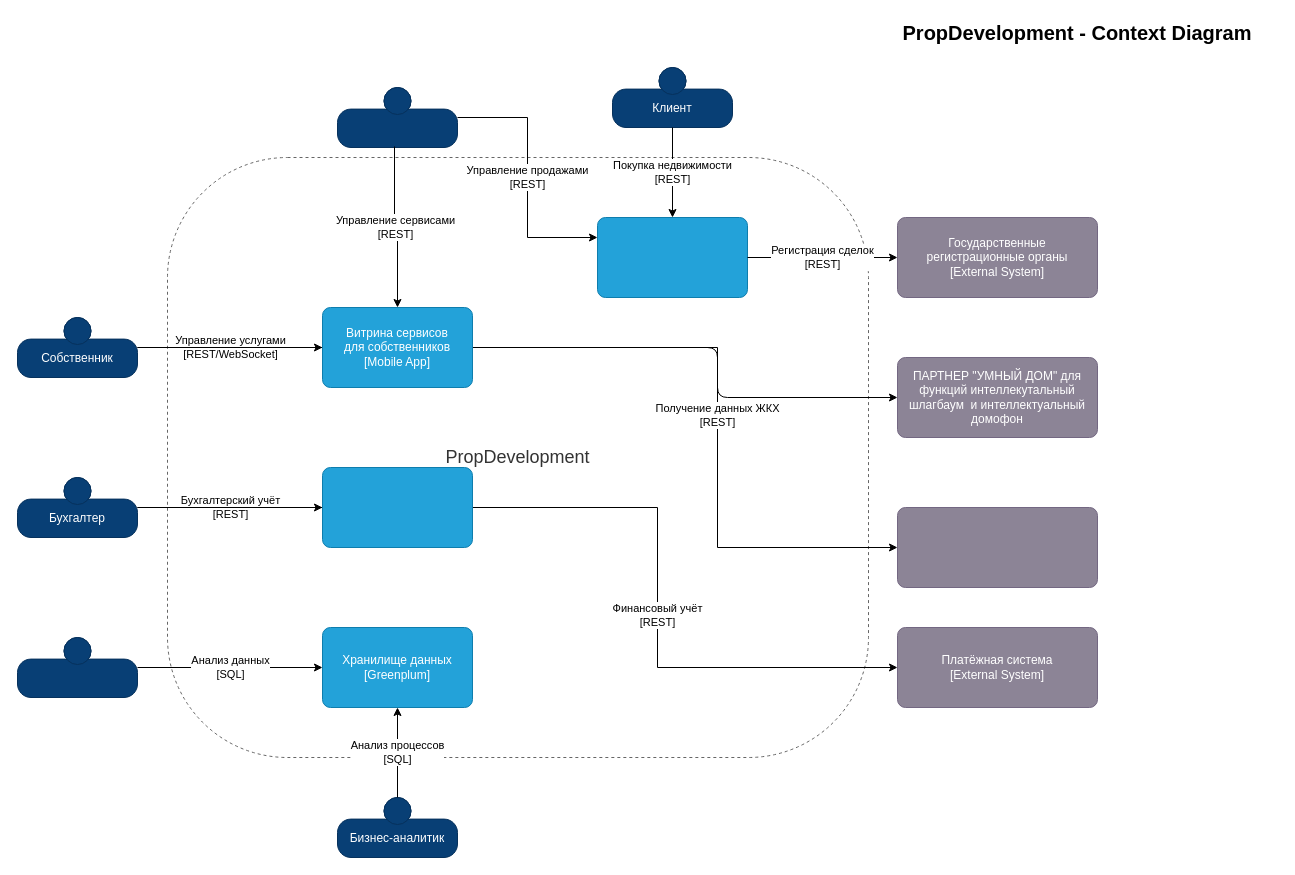
Some shapes in this 1295 by 875 pixel diagram are drawn without their labels. Each missing label, with the centre of its shape:
"Аналитик BI" belongs at point (77, 667).
"Витрина продаж [JavaScript, React]" belongs at point (672, 257).
"Менеджер" belongs at point (397, 117).
"Поставщик ресурсов ЖКХ [External System]" belongs at point (997, 547).
"Сервис бухгалтера [Keycloak]" belongs at point (397, 507).
